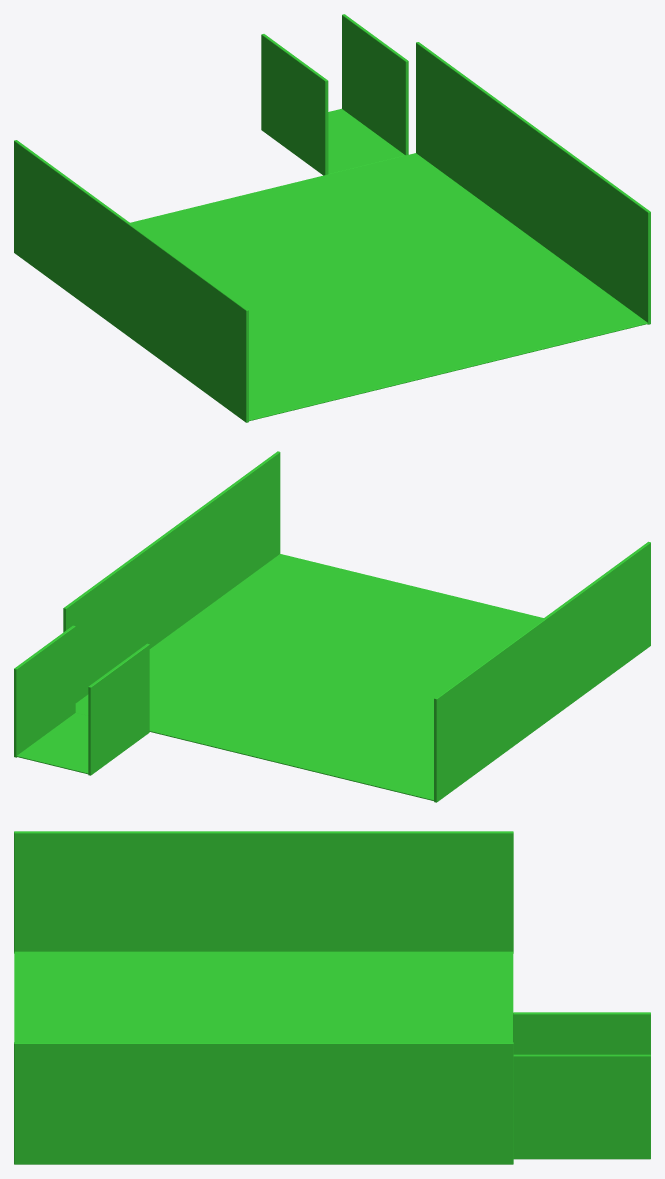
File: Party_Room.fbx
3 views of the same model, one above another, from view 1: azimuth 30°, elevation 25°; view 2: azimuth 150°, elevation 25°; view 3: azimuth 270°, elevation 25° (orthographic). The views are drawn at different scales.
Parts seen in each view (by area): view 1: Floor1, Wall_Room_1, Wall_Room_2, Wall_Room_Hall_2, Wall_Room_Hall_1, Floor2; view 2: Floor1, Wall_Room_1, Wall_Room_2, Wall_Room_Hall_2, Wall_Room_Hall_1, Floor2; view 3: Wall_Room_2, Wall_Room_1, Floor1, Wall_Room_Hall_1, Wall_Room_Hall_2.
Part boxes in pixels (x1,y1,x2,y2): Floor1: (130,153,647,421); Wall_Room_1: (14,140,248,422); Wall_Room_2: (416,42,650,324); Wall_Room_Hall_2: (261,34,328,175); Wall_Room_Hall_1: (342,14,408,155); Floor2: (328,108,405,174); Floor1: (75,554,543,800); Wall_Room_1: (434,541,650,802); Wall_Room_2: (63,451,280,702); Wall_Room_Hall_2: (88,643,149,775); Wall_Room_Hall_1: (14,625,75,757); Floor2: (16,713,88,774); Wall_Room_2: (14,1042,513,1164); Wall_Room_1: (14,831,513,953); Floor1: (14,951,513,1042); Wall_Room_Hall_1: (513,1054,650,1159); Wall_Room_Hall_2: (513,1012,650,1054).
Bounding box in the file's own units: 40.28 × 10.7 × 51.03.
